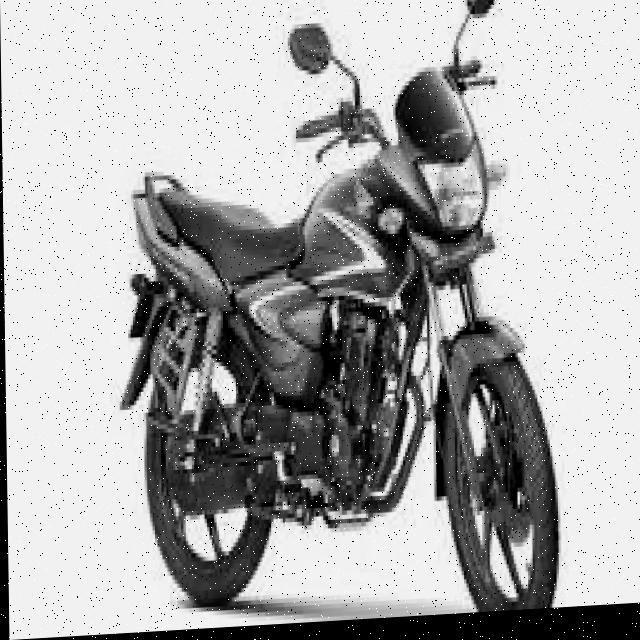bike: (110, 0, 574, 635)
